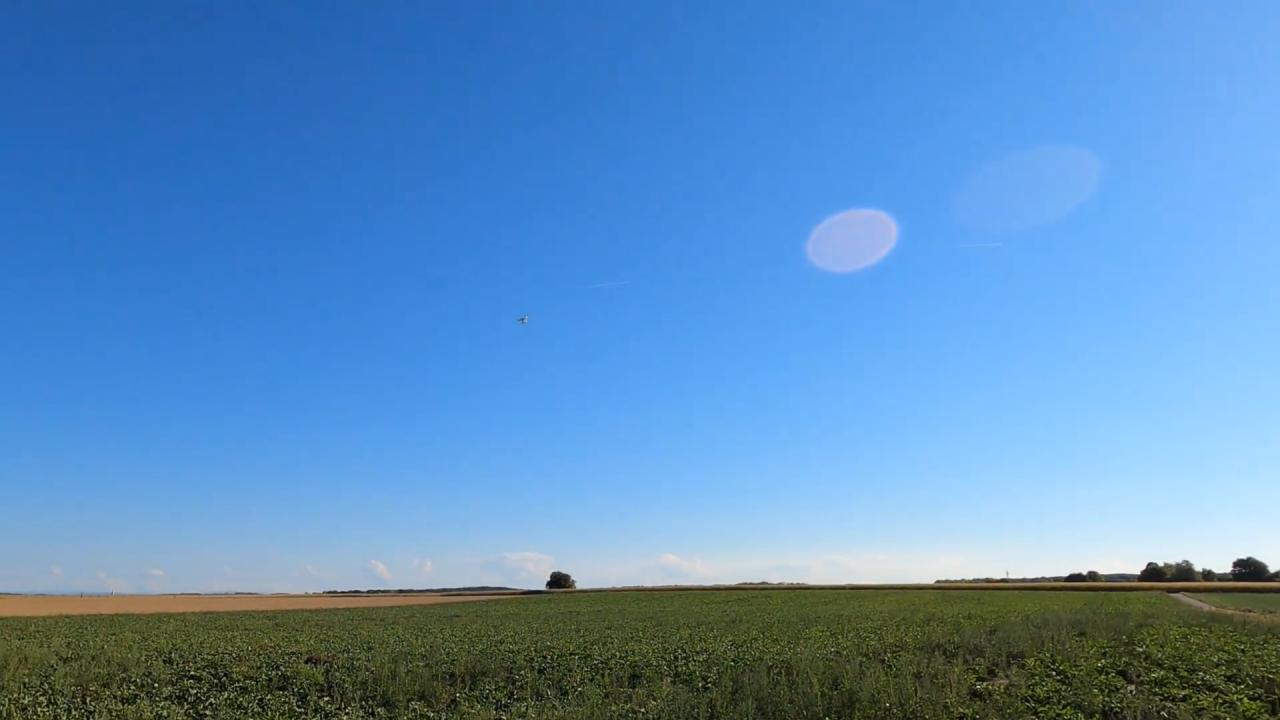Drone: (513, 311, 533, 329)
